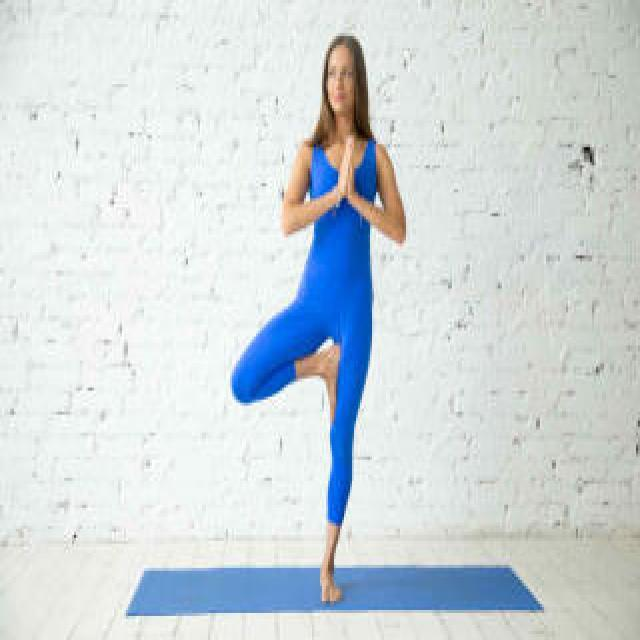yoga-pose tree: (228, 35, 407, 607)
